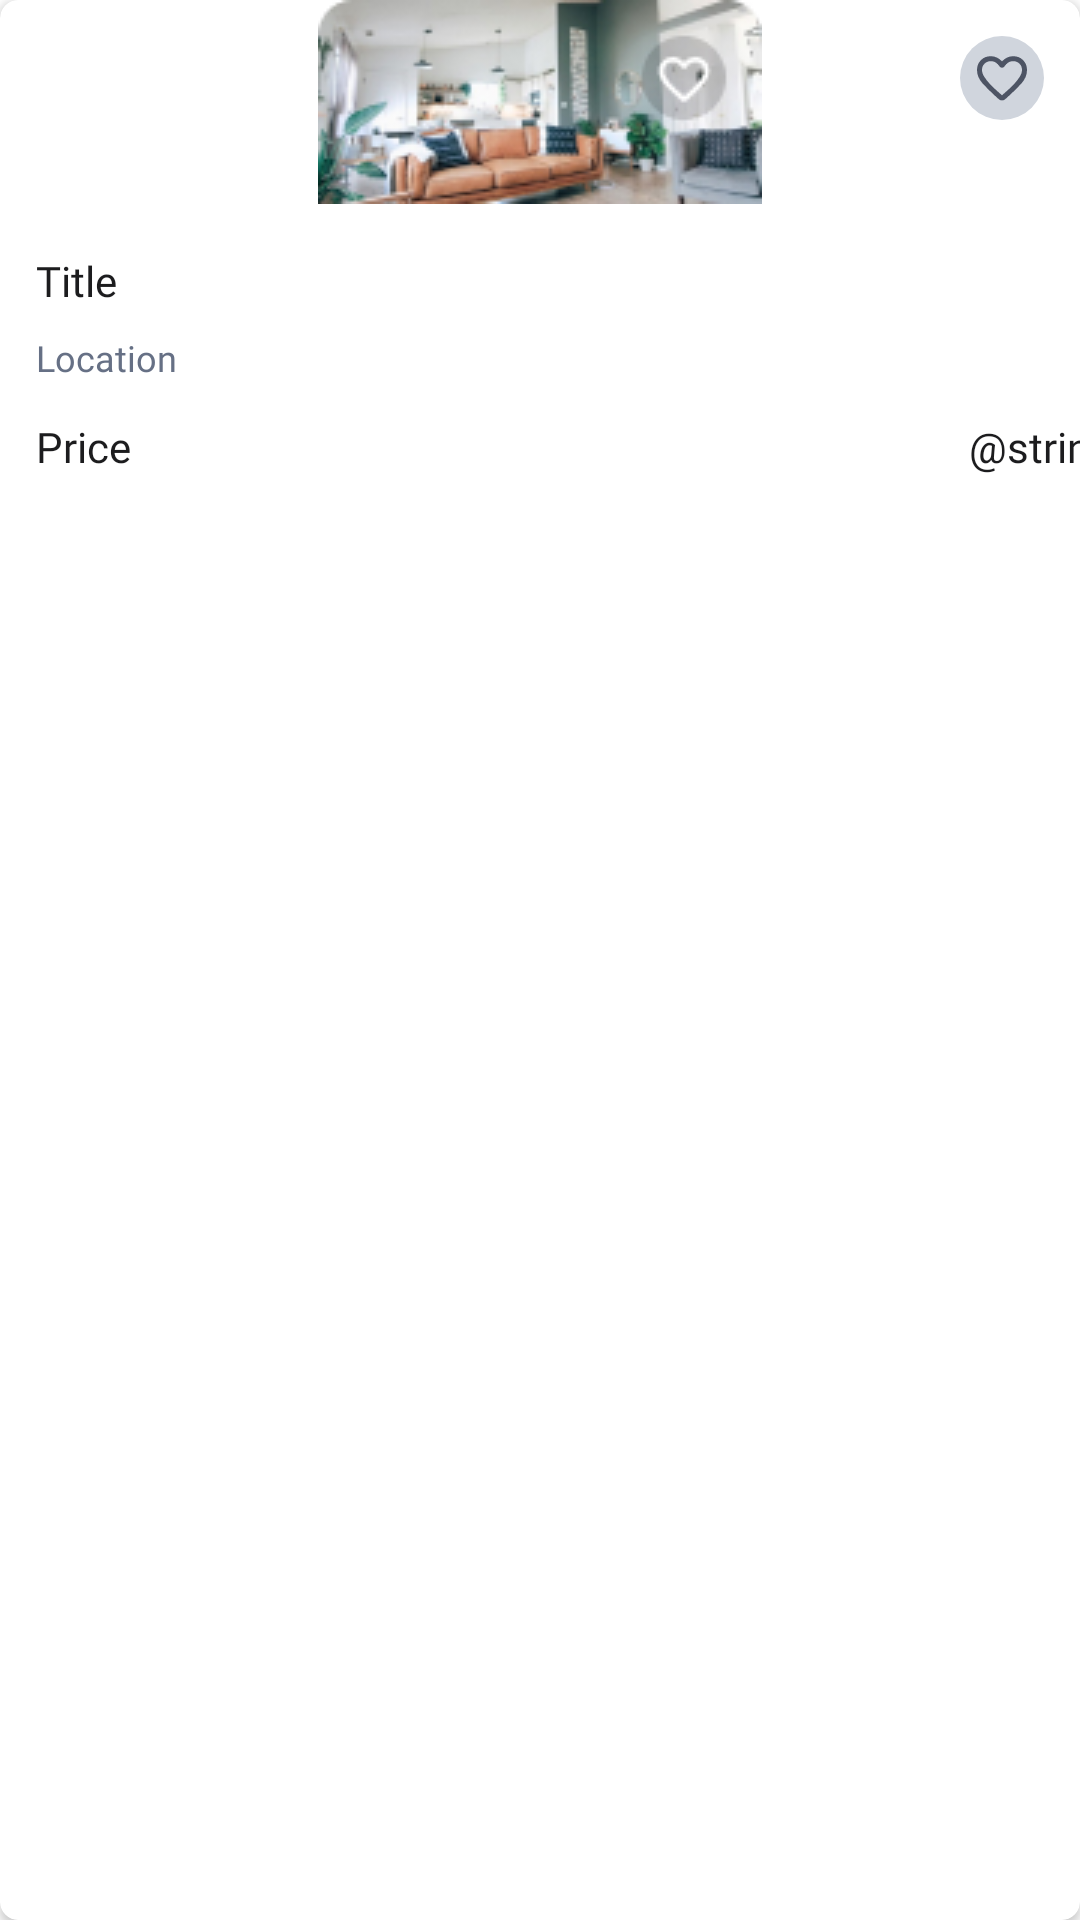

Named icons in this screenshot (1080x1920) and their centers, [x,y]:
hearth: [1002,78]
